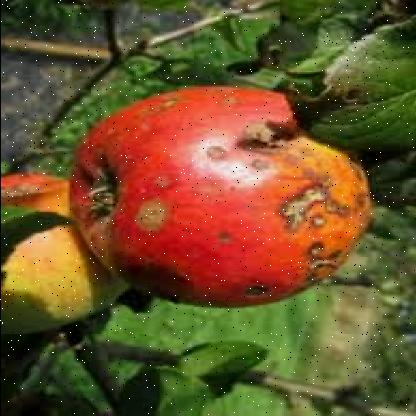damaged_apple: (75, 79, 369, 305)
